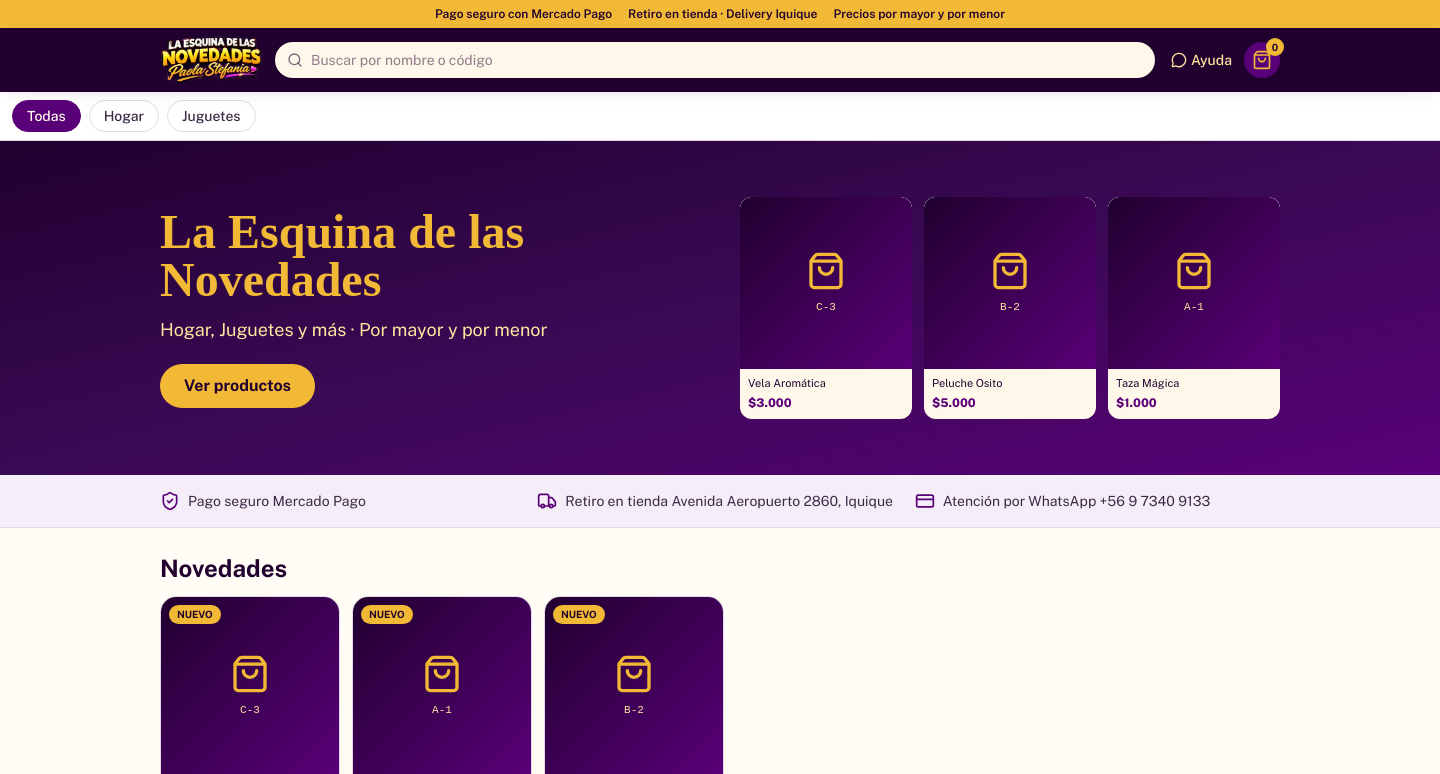
Test: buscador › sin coincidencias muestra estado vacío y contador en 0
Type "zzzz" into the search field named "buscar productos" at (715, 60), box [275, 42, 1155, 78]
(page scrolled)
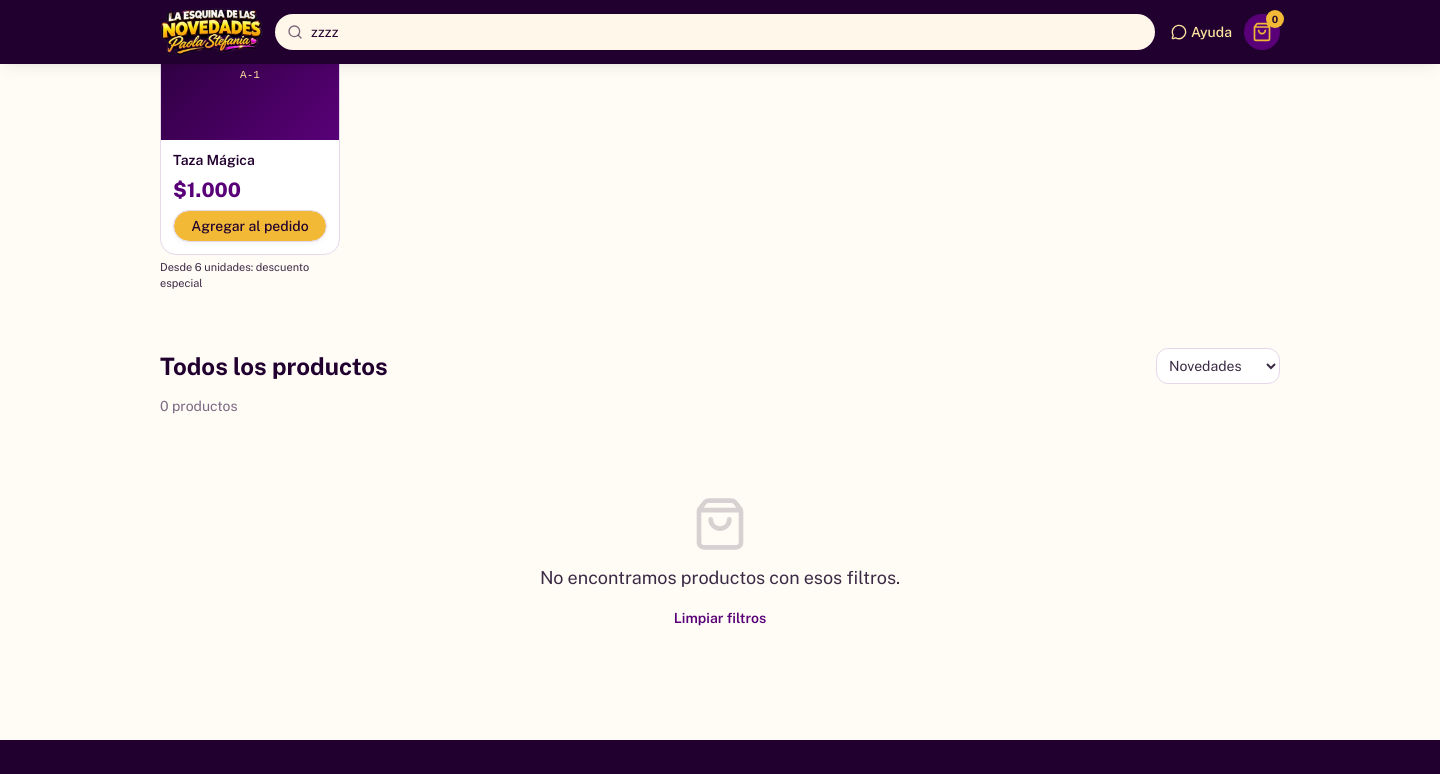
Result: the text "No encontramos productos con esos filtros." is shown at [540, 564, 900, 592]
Result: the text with test id "resultados" shows "0" at [160, 398, 169, 414]
